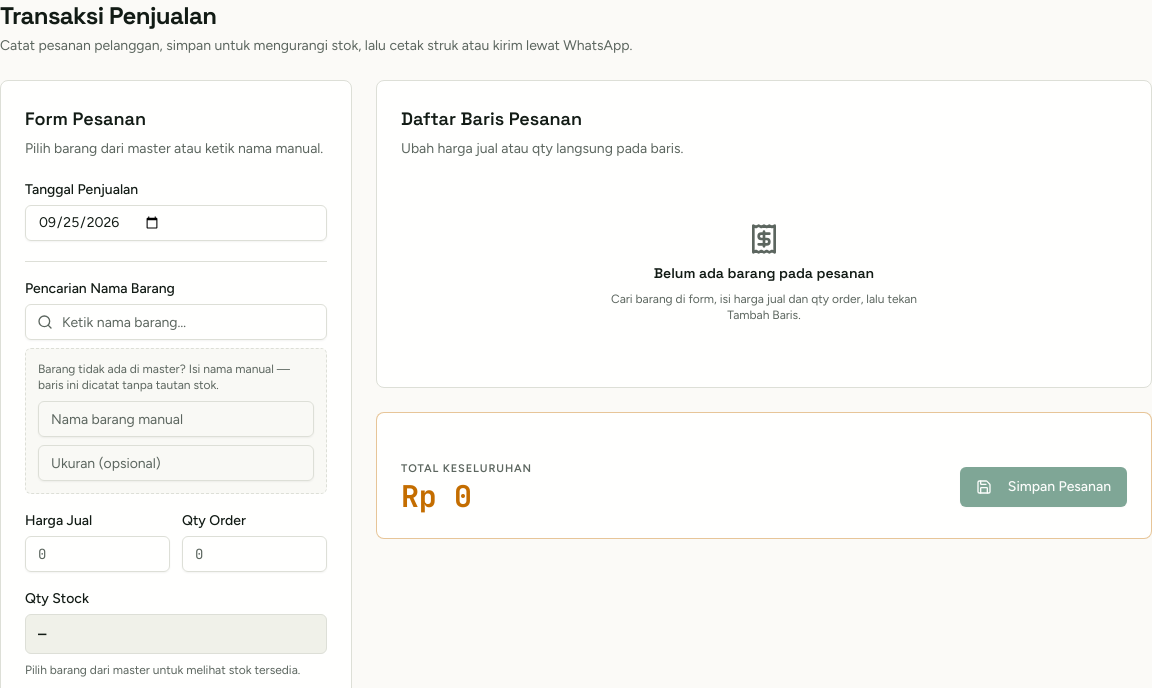
Test case: PenjualanPage › selects a master item, shows its Qty Stock, and computes Jumlah and total
Step 1. Type "buku" into the field with test id "penjualan.search_input" → (176, 322), box [25,304,327,340]
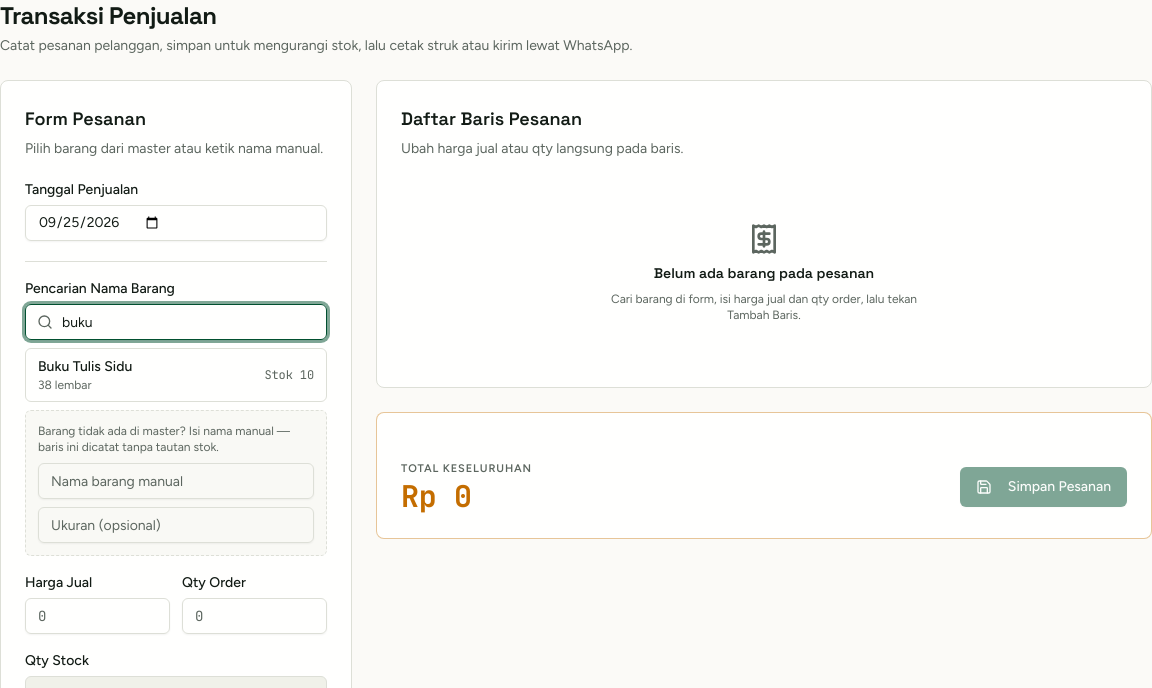
expect the button with test id "penjualan.search_result.1" shows "Buku Tulis Sidu": met
expect the button with test id "penjualan.search_result.1" shows "Stok 10": met
Step 2. Click the button with test id "penjualan.search_result.1" → (85, 366), box [26,349,326,401]
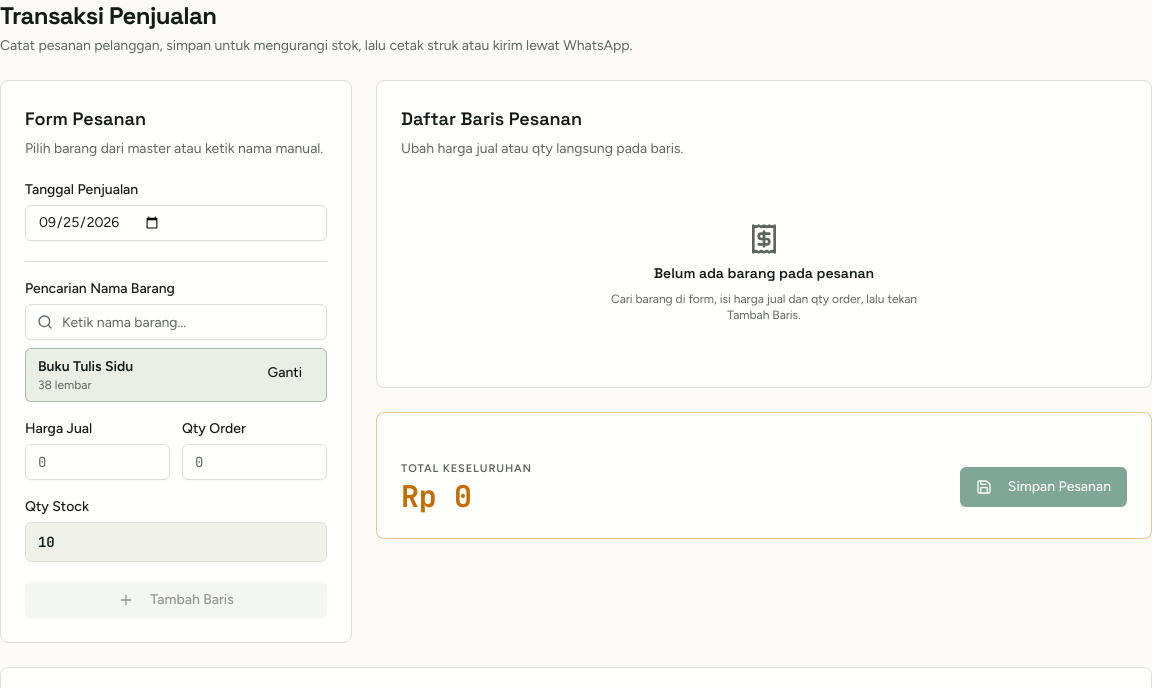
expect the text with test id "penjualan.qty_stock_display" reads "10": met, box [38,533,54,551]
Step 3. Type "5000" into the field with test id "penjualan.harga_jual_input" → (98, 462), box [25,444,170,480]
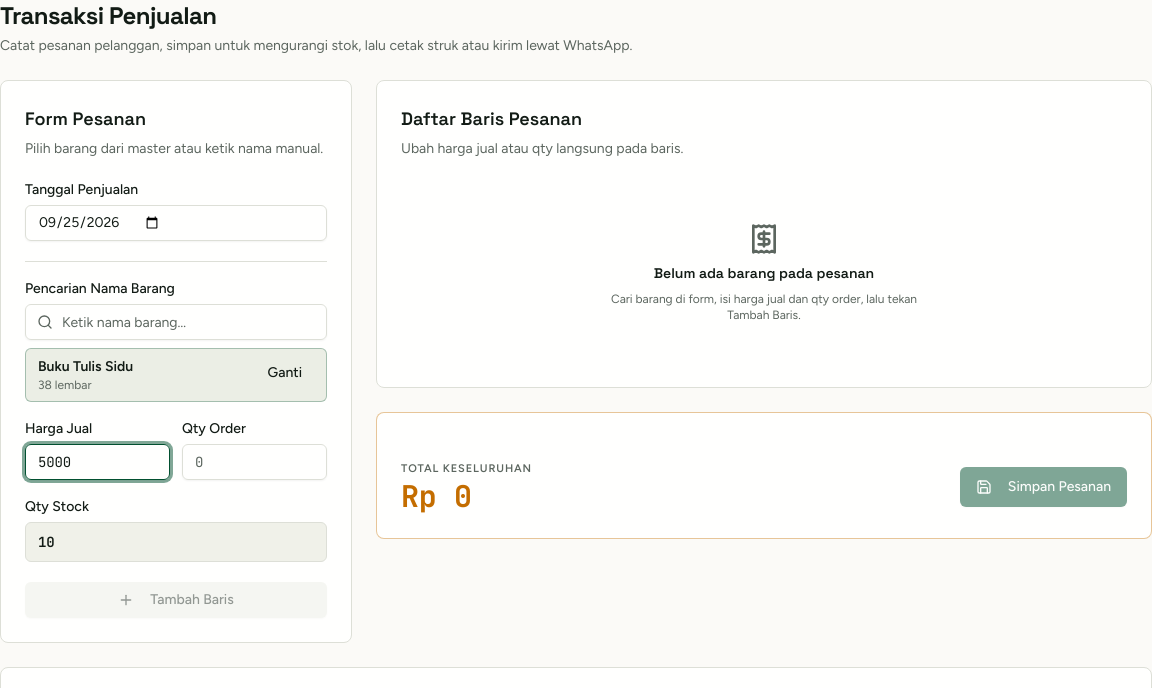
Step 4. Type "3" into the field with test id "penjualan.qty_order_input" → (254, 462), box [182,444,327,480]
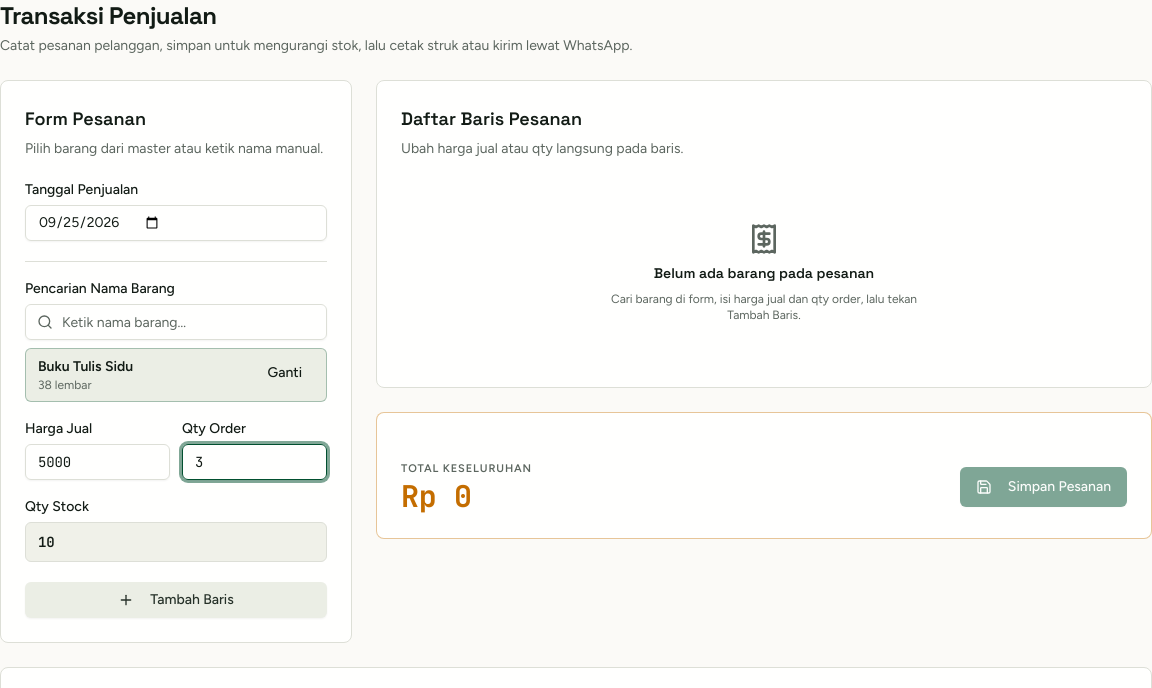
Step 5. Click the button with test id "penjualan.add_line_button" → (176, 600), box [25,582,327,618]
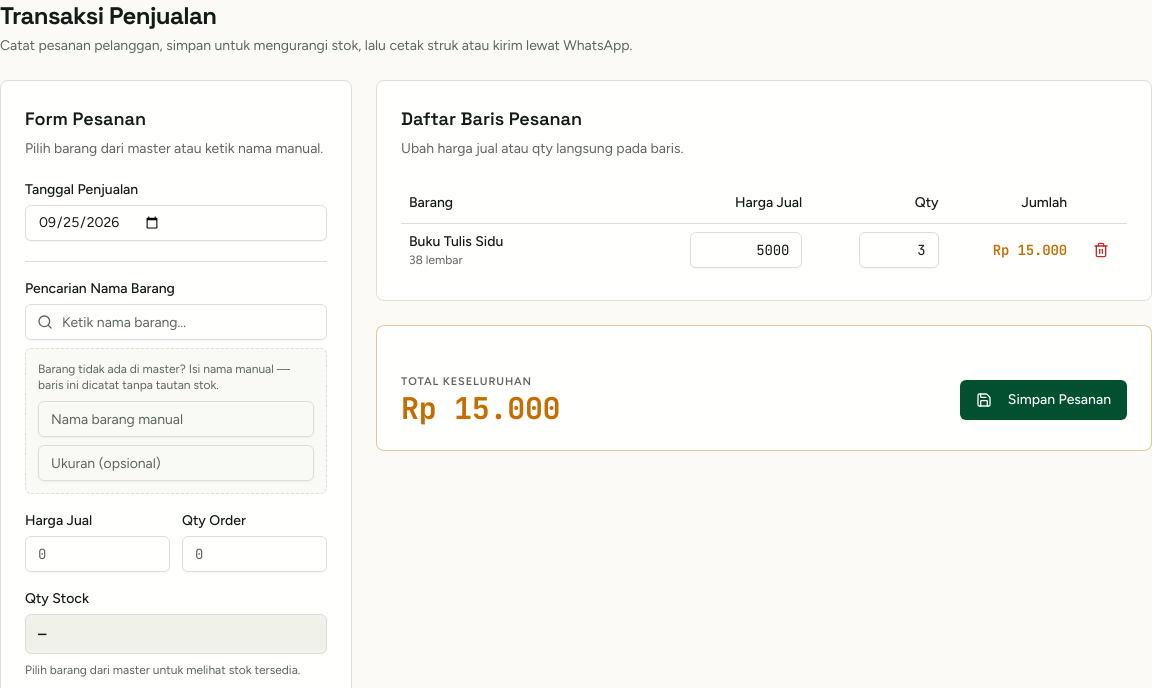
expect the text "Buku Tulis Sidu" is shown: met, box [409,232,503,250]
expect the text "Rp 15.000" is shown: met, box [947,223,1075,276]
expect the text with test id "penjualan.grand_total" reads "Rp 15.000": met, box [401,388,560,428]
